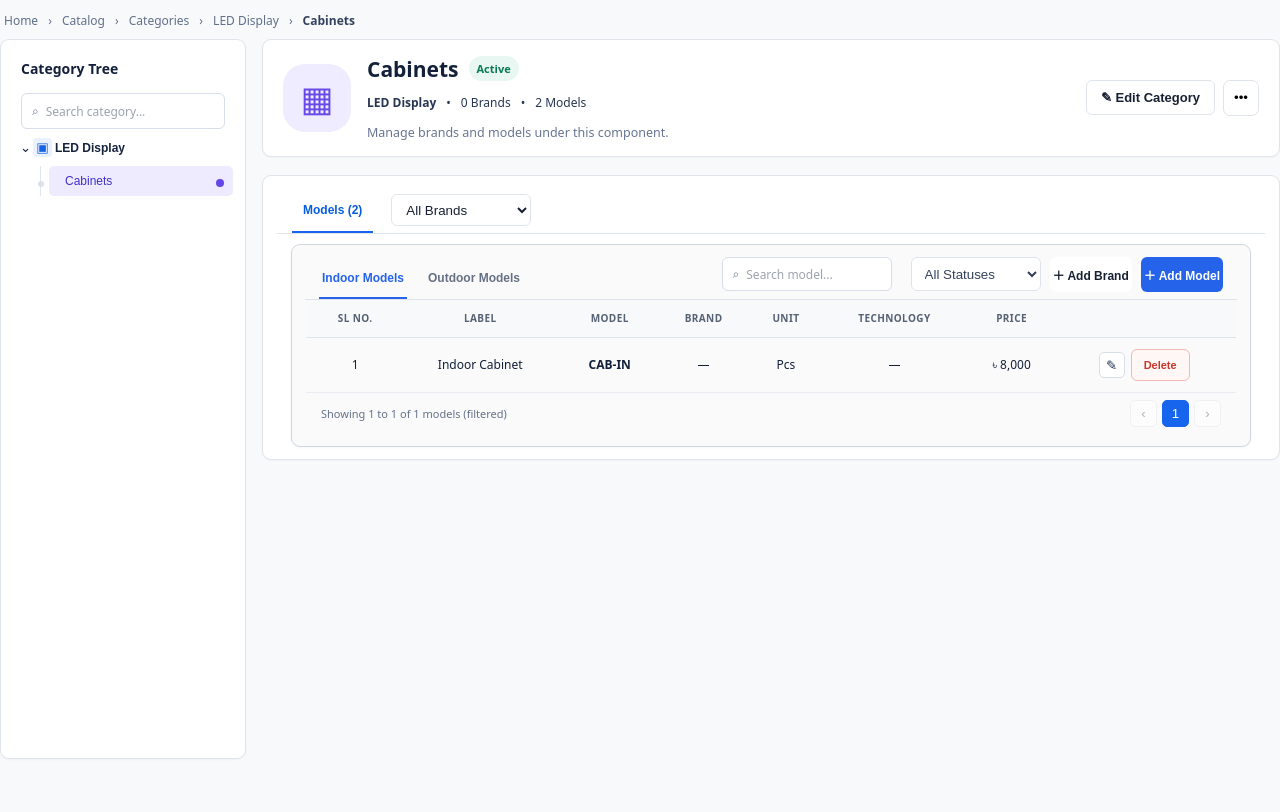
Scenario: filters cabinet models by indoor and outdoor display type
The width and height of the screenshot is (1280, 812).
Check: the text "Indoor Cabinet" is shown, box top-left (399, 338), bottom-right (561, 393)
Check: the text "Outdoor Cabinet" is not shown
Click the button "Outdoor Models": (474, 278) top-left (425, 257), bottom-right (523, 299)
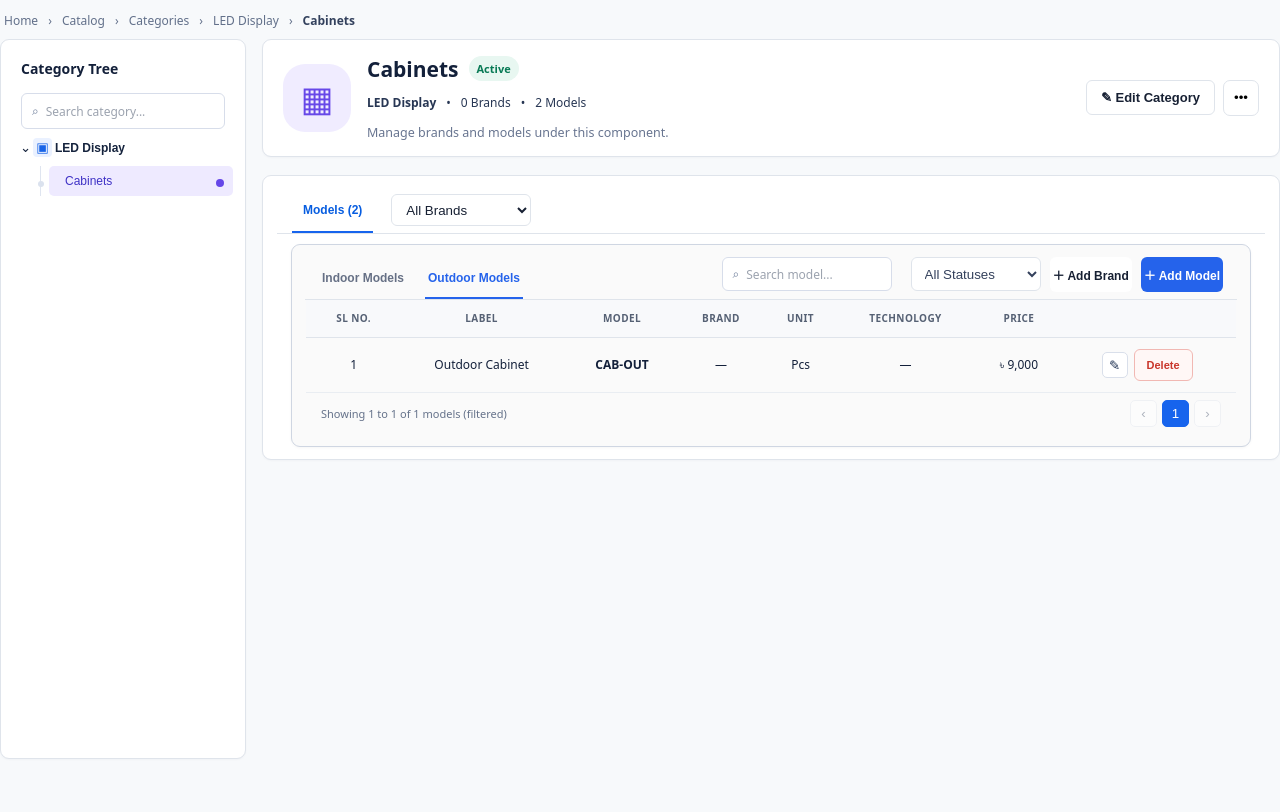
Check: the text "Outdoor Cabinet" is shown, box top-left (396, 338), bottom-right (567, 393)
Check: the text "Indoor Cabinet" is gone
